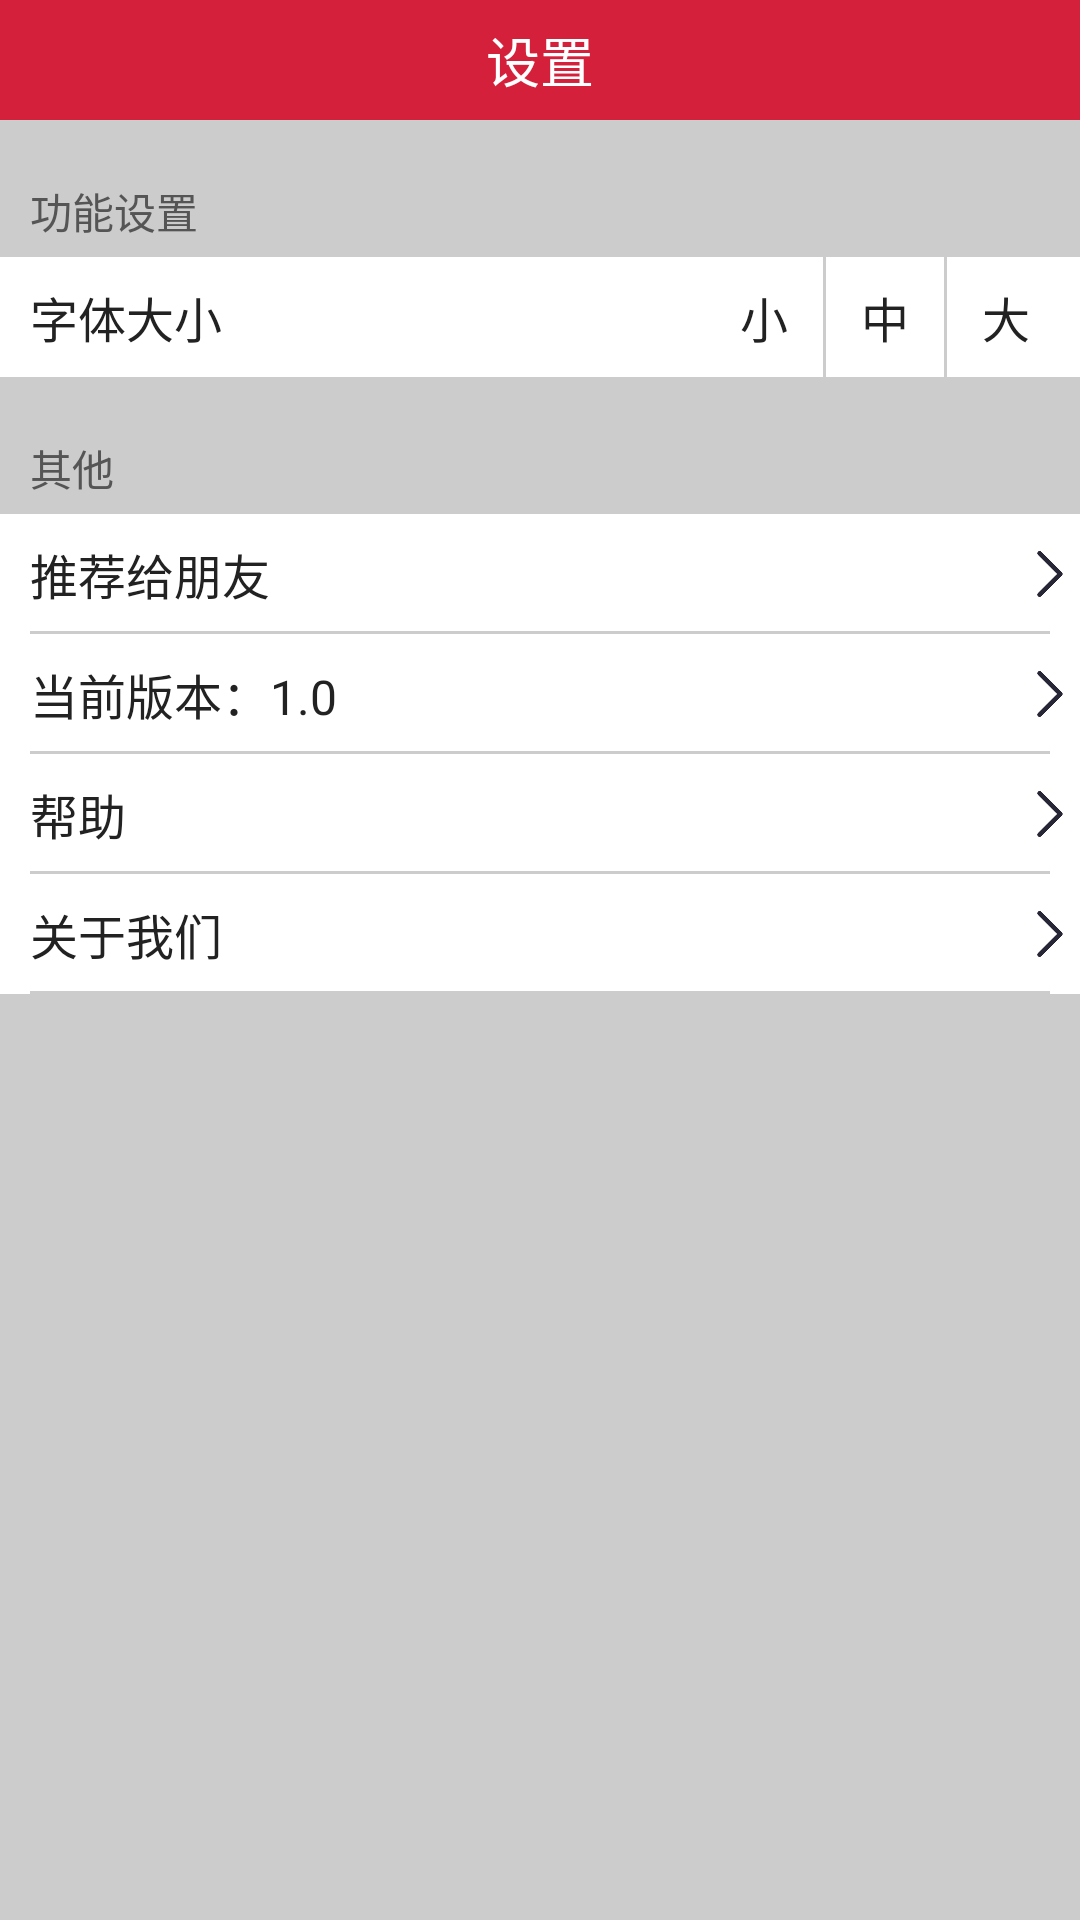

Named icons in this screenshot (1080 x 1920) and their centers, point (x, y):
enter: point (1050, 574), point (1050, 694), point (1050, 814), point (1050, 934)
